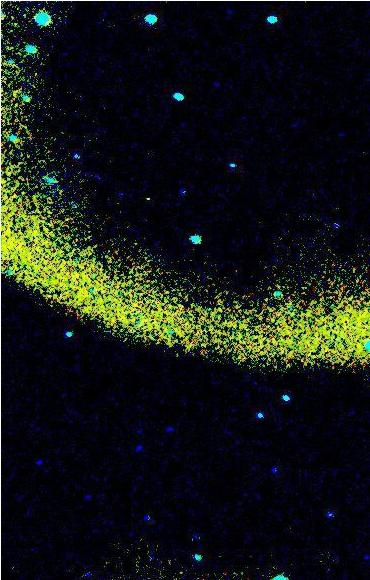star: (132, 186, 162, 216)
